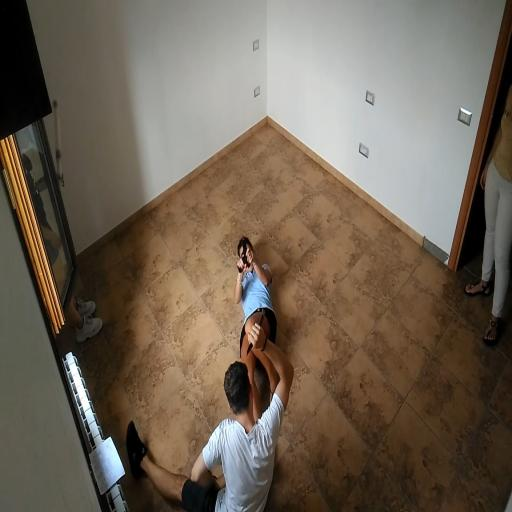violencia: (120, 226, 303, 511)
